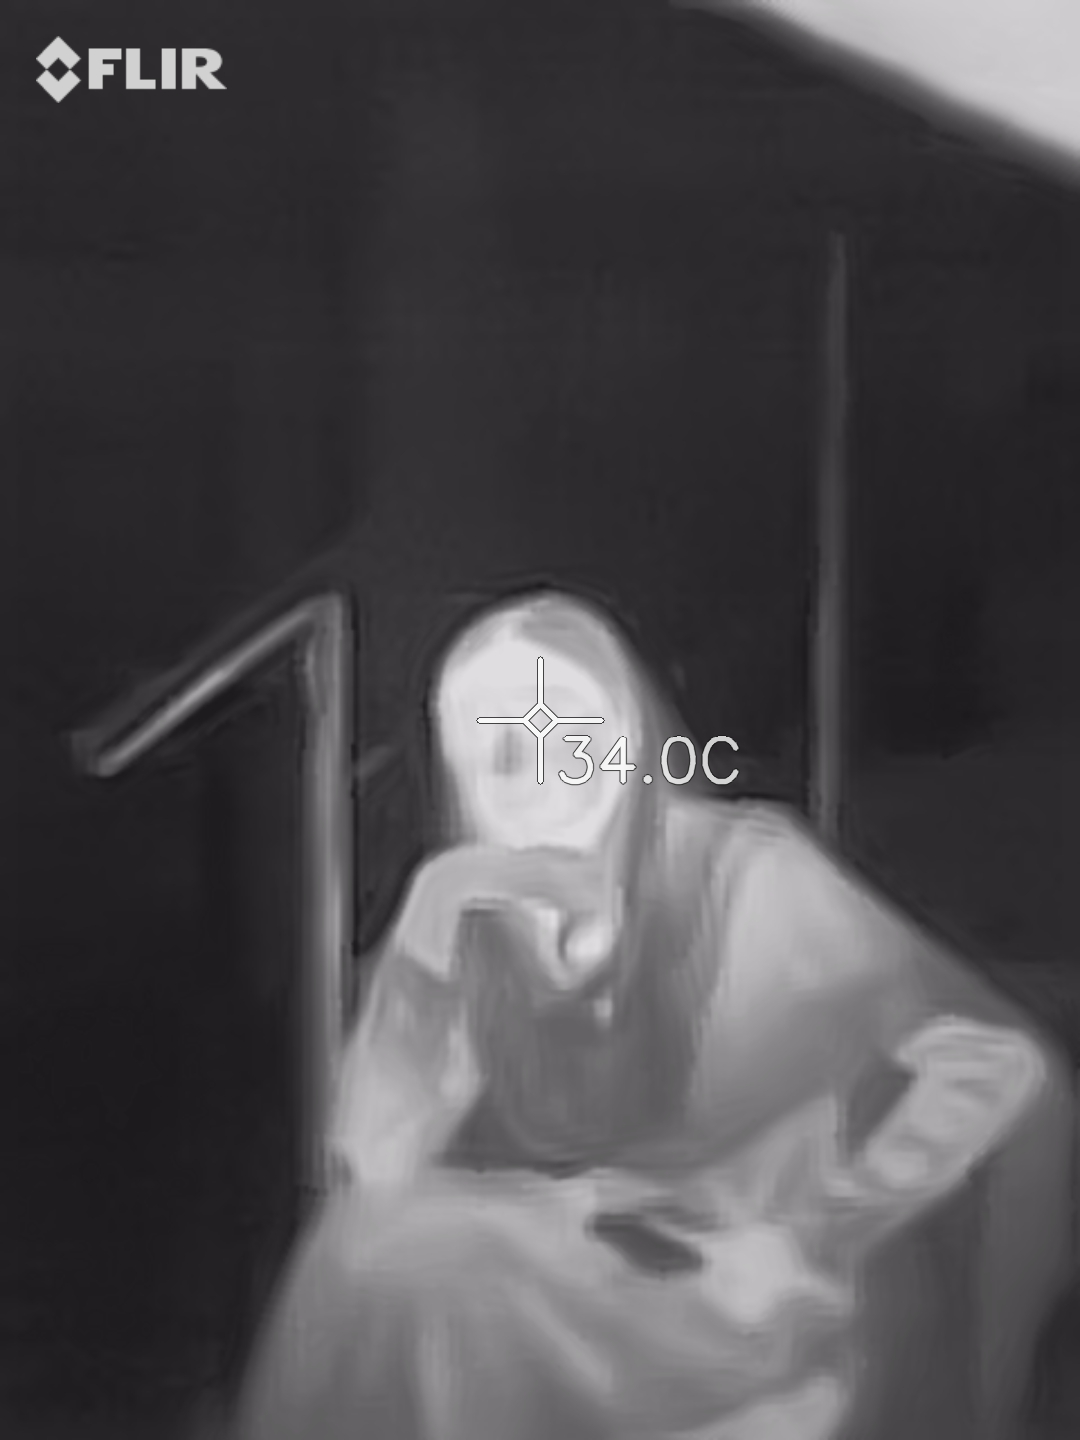head: (421, 582, 650, 855)
